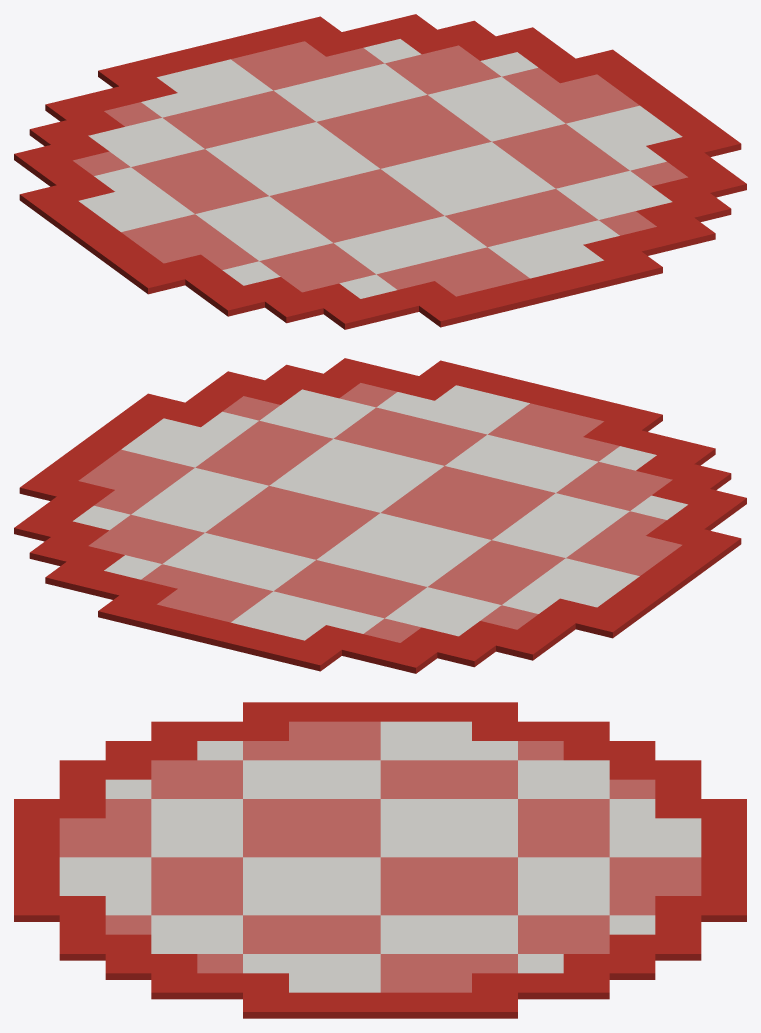
Rendered from ncb-rug-checks.glb.
The picture shows the model from 3 angles, top to bottom: view 1: azimuth 30°, elevation 25°; view 2: azimuth 150°, elevation 25°; view 3: azimuth 270°, elevation 25°; orthographic projection. The views are drawn at different scales.
Visible parts, largest first — view 1: box-prop; view 2: box-prop; view 3: box-prop.
Part boxes in pixels (box(x1,y1,x2,y2)): box-prop: box(14, 14, 746, 329); box-prop: box(14, 358, 746, 673); box-prop: box(14, 702, 746, 1018).
Bounding box in the file's own units: 3.04 × 0.03 × 3.04.
